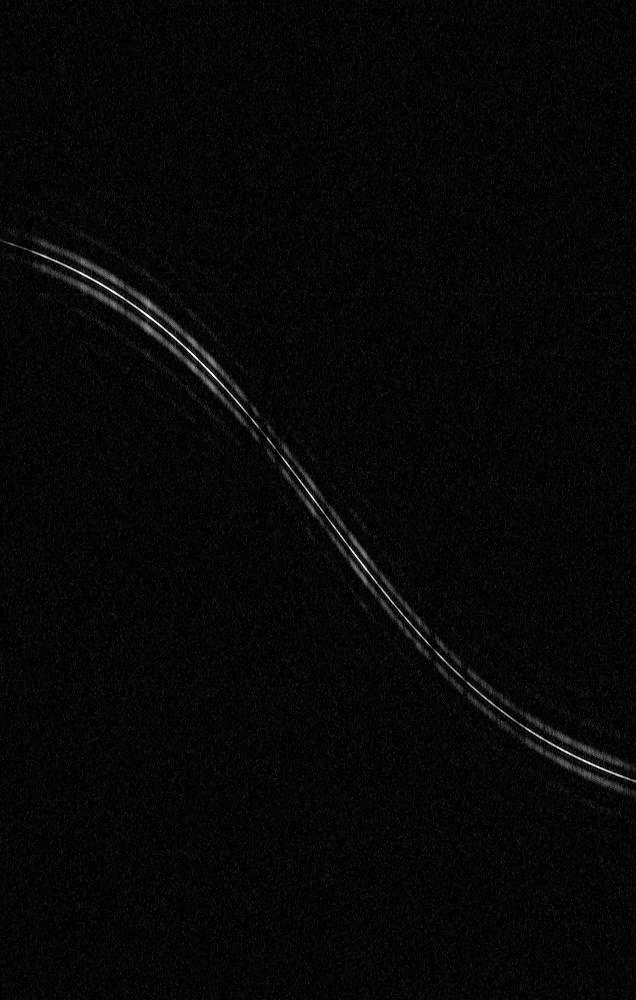signal: (0, 0, 635, 999)
